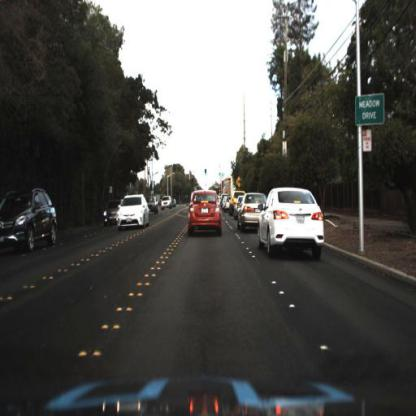car: (259, 184, 326, 258), (1, 187, 61, 258), (187, 188, 224, 237), (115, 193, 149, 232), (239, 190, 263, 234), (144, 191, 162, 215), (160, 195, 173, 215)
